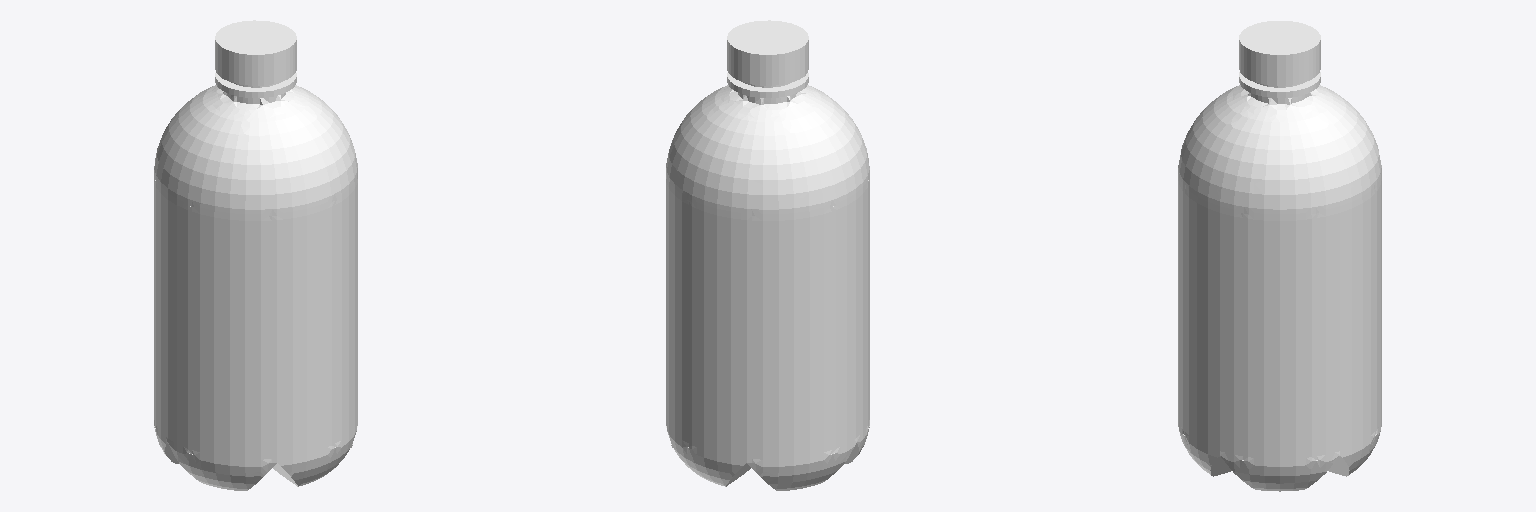
URDF robot description (custom):
<?xml version="1.0"?>
<robot name="custom">
  <material name="Blanc">
    <color rgba="1.0 1.0 1.0 1.0"/>
  </material>
  <link name="base_link">
    <visual>
      <origin xyz="0 0 0" rpy="0 0 0"/>
      <geometry>
        <mesh filename="use_water_bottle.obj" scale="1 1 1"/>
      </geometry>
      <material name="Blanc"/>
    </visual>
    <collision>
      <origin xyz="0 0 0" rpy="0 0 0"/>
      <geometry>
	 	     <mesh filename="use_water_bottle.obj" scale="1 1 1"/>
      </geometry>
    </collision>
    <contact>
      <lateral_friction value="5.0"/>
      <rolling_friction value="0.0001"/>
      <inertia_scaling value="3.0"/>
    </contact>
    <inertial>
      <origin rpy="0 0 0" xyz="0 0 0"/>
       <mass value="0.05"/>
       <inertia ixx="1" ixy="0" ixz="0" iyy="1" iyz="0" izz="1"/>
    </inertial>
  </link>

</robot>

--- Facts derived from the render (not from the file) ---
Views: 3 orthographic renders of the robot side by side, from view 1: azimuth 30°, elevation 25°; view 2: azimuth 150°, elevation 25°; view 3: azimuth 270°, elevation 25°.
Robot: custom — 1 links, 0 joints (none); root link base_link; default pose: all joints at 0.
Visible links, largest first — view 1: base_link; view 2: base_link; view 3: base_link.
Link boxes in pixels (x1=…): base_link: x1=154, y1=20, x2=357, y2=490; base_link: x1=666, y1=20, x2=869, y2=490; base_link: x1=1178, y1=21, x2=1381, y2=491.
Size in the robot's own frame: 0.0603 by 0.0602 by 0.1365 metres.
Meshes: 1 distinct files referenced, 1 mesh visuals loaded (1 OBJ).
